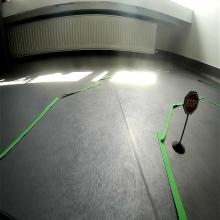stop: (183, 90, 200, 116)
